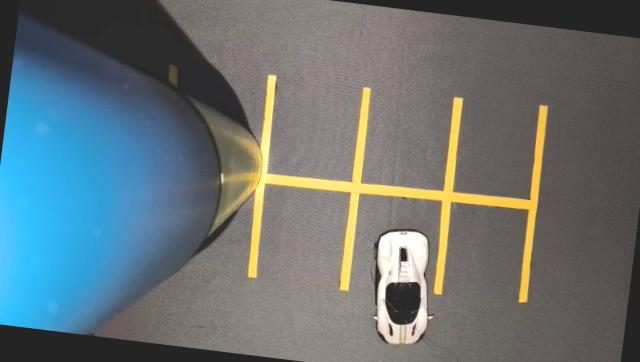toy_car: (349, 210, 454, 362)
